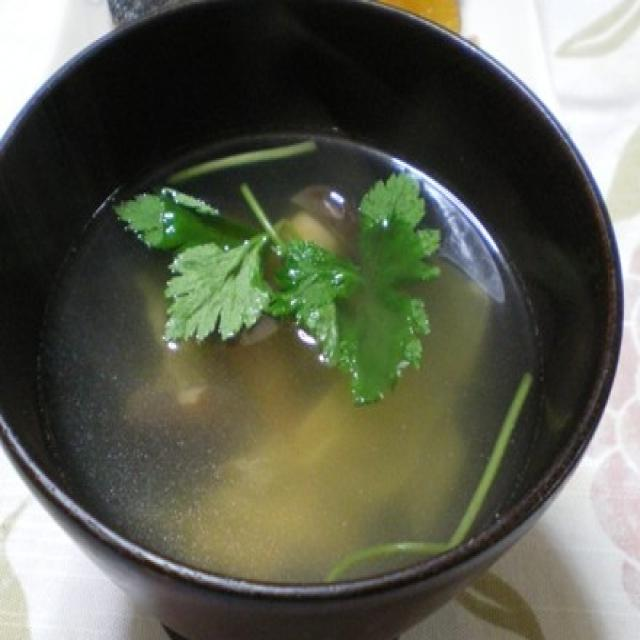汤锅炖物: (6, 4, 617, 594)
